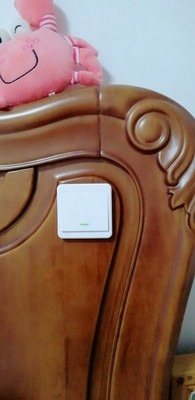switch: (60, 190, 115, 234)
